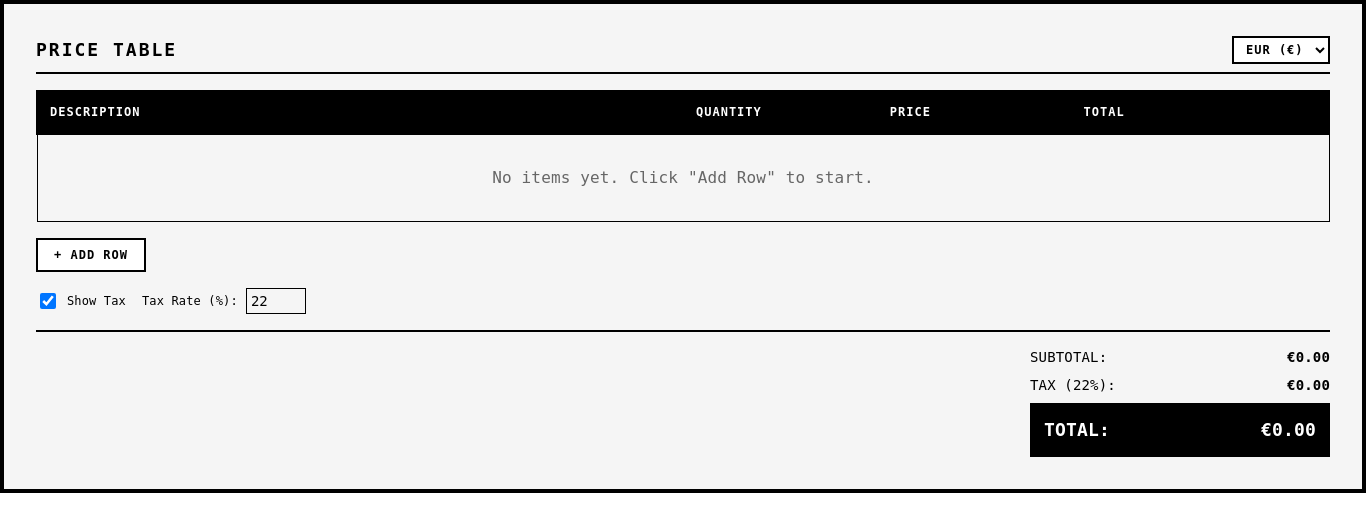
PricesBlock › computes line total, 22% tax and grand total
The image size is (1366, 510).
Click the button "+ Add Row" at (91, 255), box left=36, top=238, right=146, bottom=272
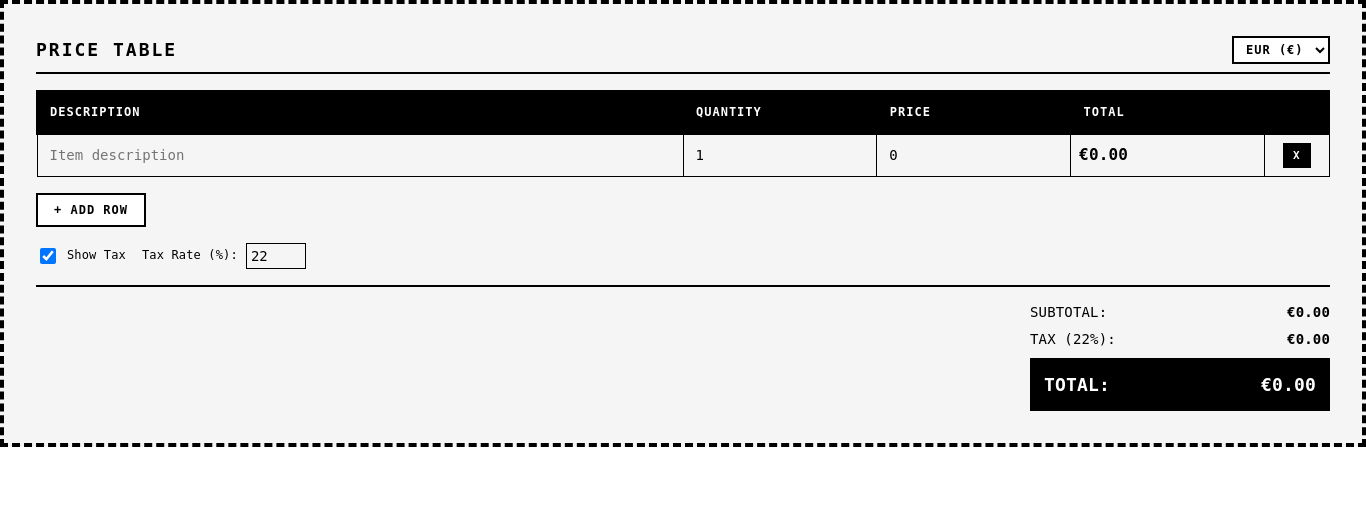
Replace the text in the number field named "Quantity" with "2" at (780, 155), box left=692, top=143, right=868, bottom=167
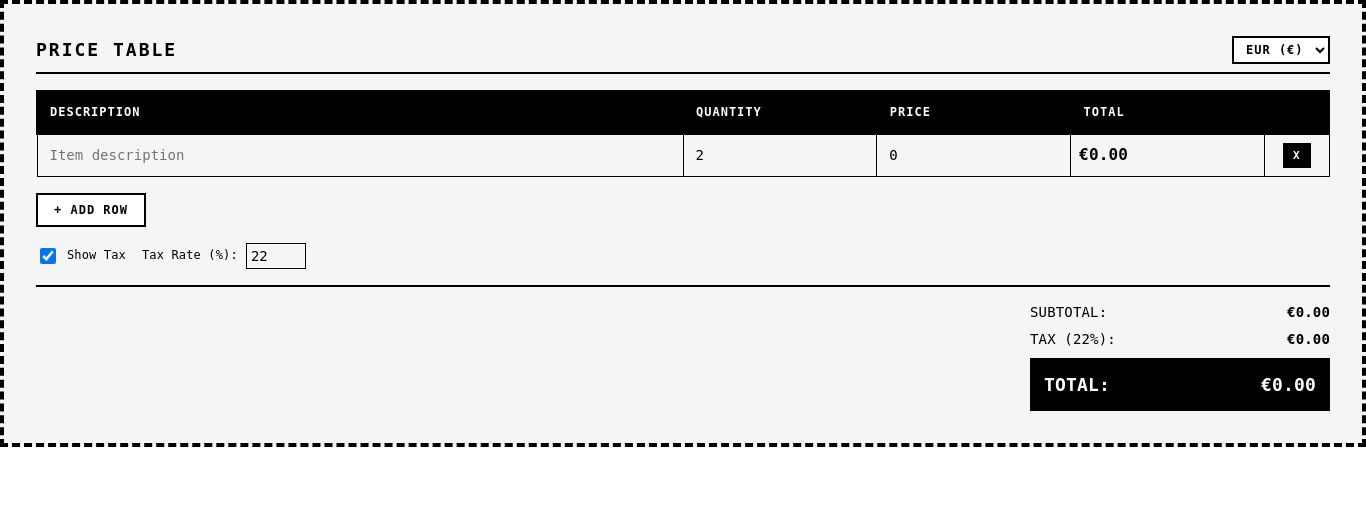
Replace the text in the number field named "Unit price" with "150" at (974, 155), box left=885, top=143, right=1062, bottom=167
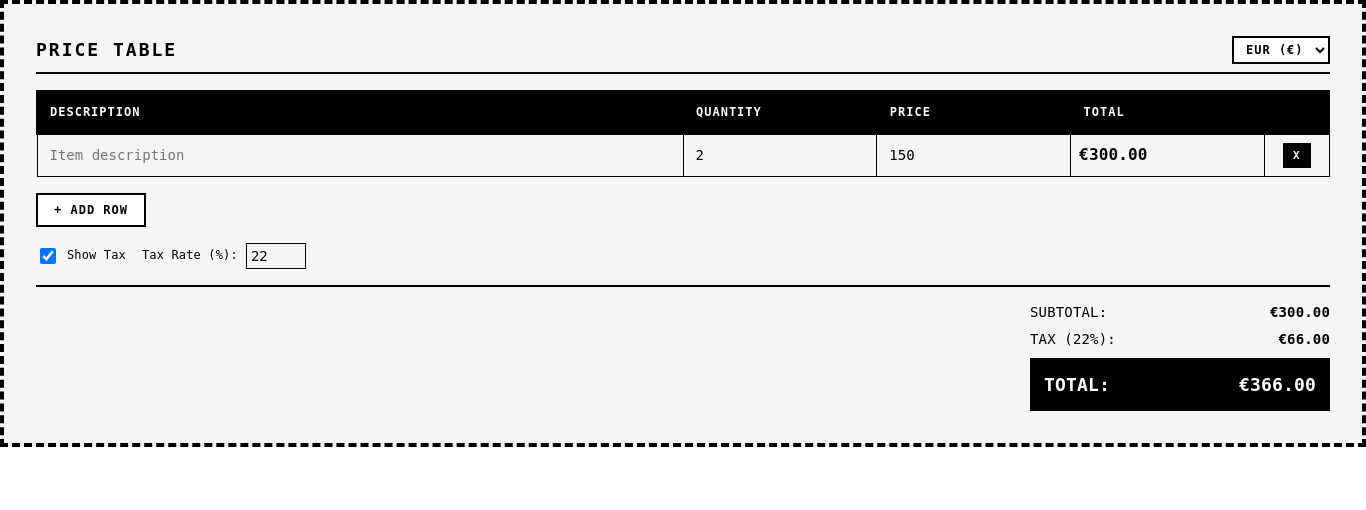
Result: the text "€366.00" is shown at left=1239, top=372, right=1316, bottom=397
